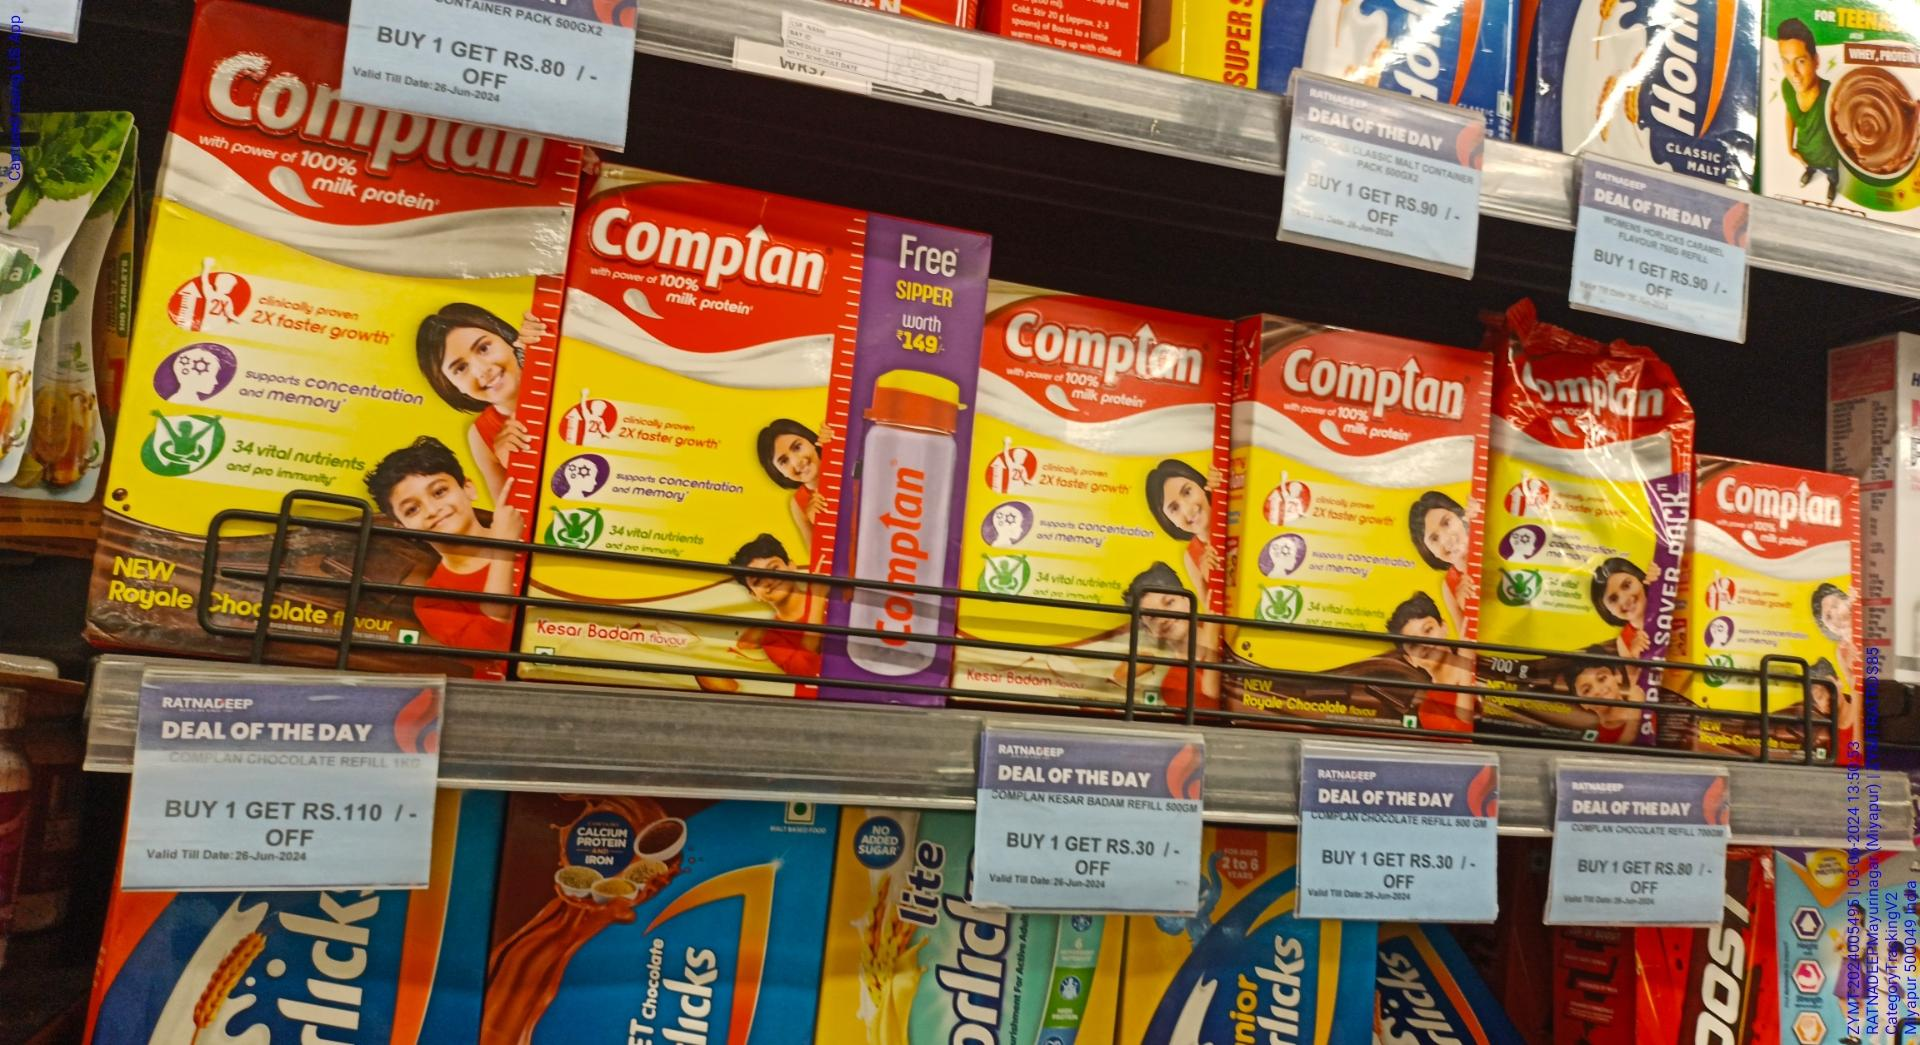COMPLAN_CHOCOLATE_1_KG_PACK: (118, 58, 528, 674)
COMPLAN_CHOCOLATE_200_GMS_PACK: (1686, 453, 1865, 767)
COMPLAN_CHOCOLATE_500_GMS_PACK: (1259, 314, 1481, 726)
COMPLAN_KESAR_BADAM_500_GMS_PACK: (972, 284, 1221, 713)
COMPLAN_RC_POUCH_700_GMS_12: (1500, 327, 1670, 749)
